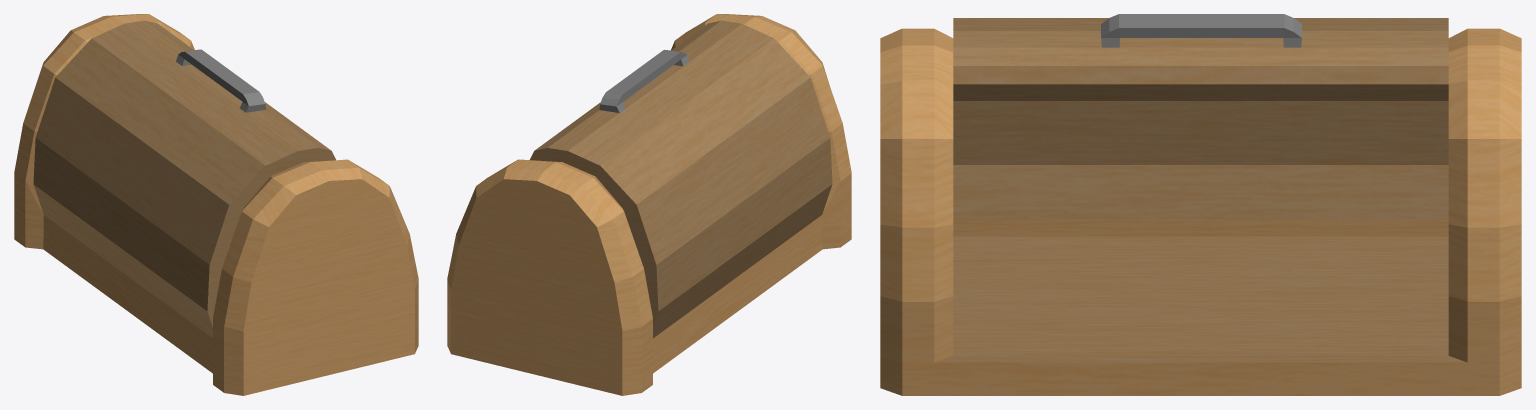
File: Bread_Container_MDL.fbx
3 renders of one model, left to right at view 1: azimuth 30°, elevation 25°; view 2: azimuth 150°, elevation 25°; view 3: azimuth 270°, elevation 25°, orthographic. The views are drawn at different scales.
Visible parts, largest first — view 1: bread_container; view 2: bread_container; view 3: bread_container.
Part boxes in pixels (x1=…): bread_container: x1=14, y1=14, x2=418, y2=395; bread_container: x1=447, y1=14, x2=851, y2=395; bread_container: x1=880, y1=14, x2=1521, y2=395.
Size of the model in its own units: 31.24 by 33.73 by 62.65.
